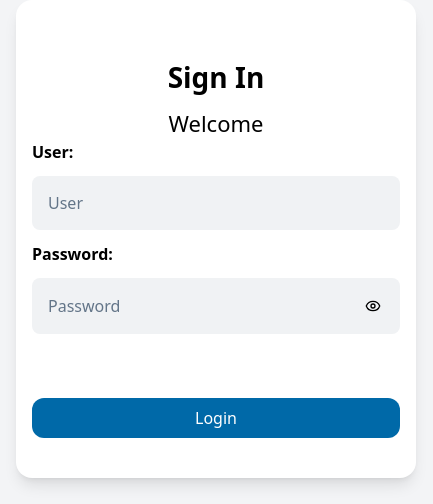
Test: LoginPage › shows EyeOff icon when Show Password is clicked
Click the element with test id "eye-icon".
click(373, 306)  # box [365,298,381,314]
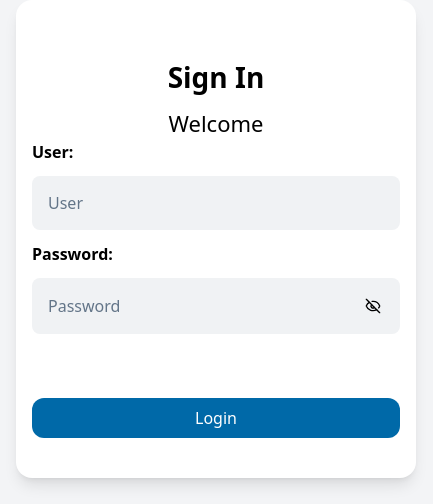
Expected: the icon with test id "eyeoff-icon" is shown, [365,298,381,314]
